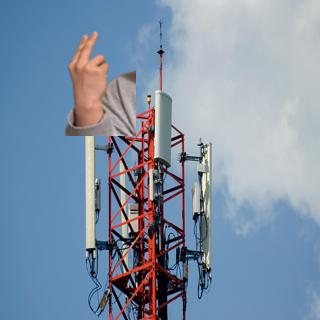DHAVE: (65, 27, 111, 109)
